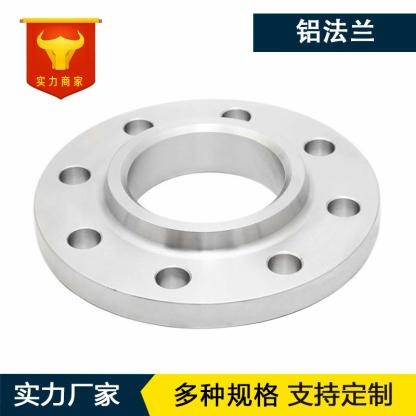FOD: (28, 90, 387, 333)
